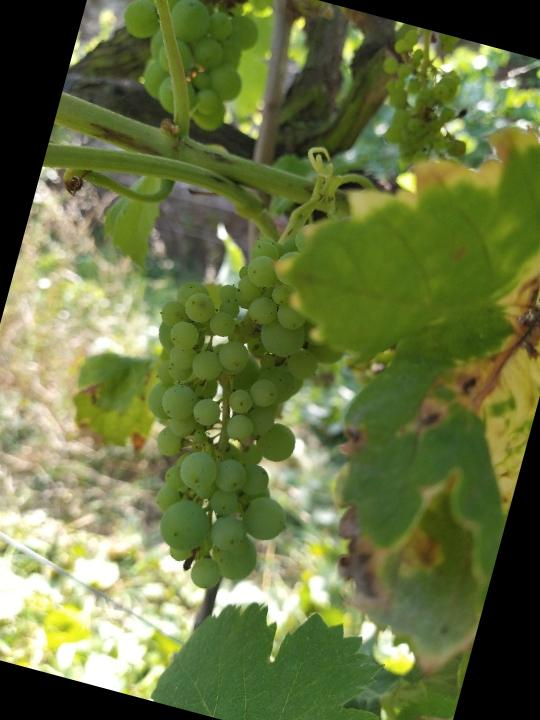grape: (87, 203, 362, 611)
